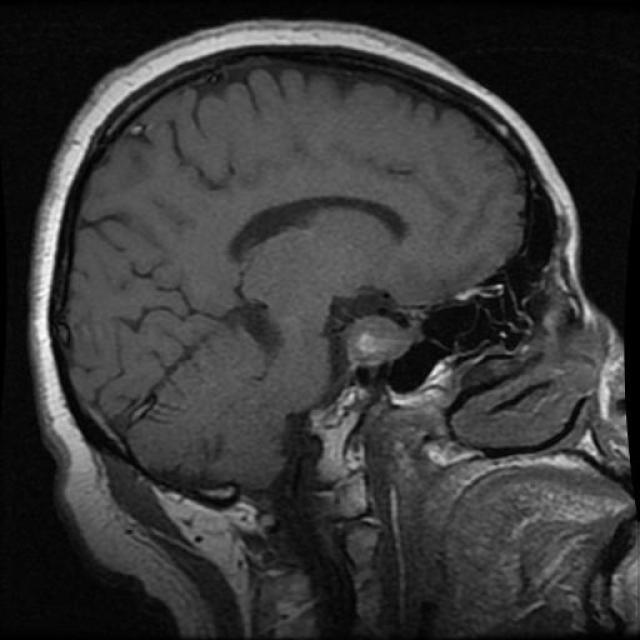pituitary: (330, 314, 450, 413)
